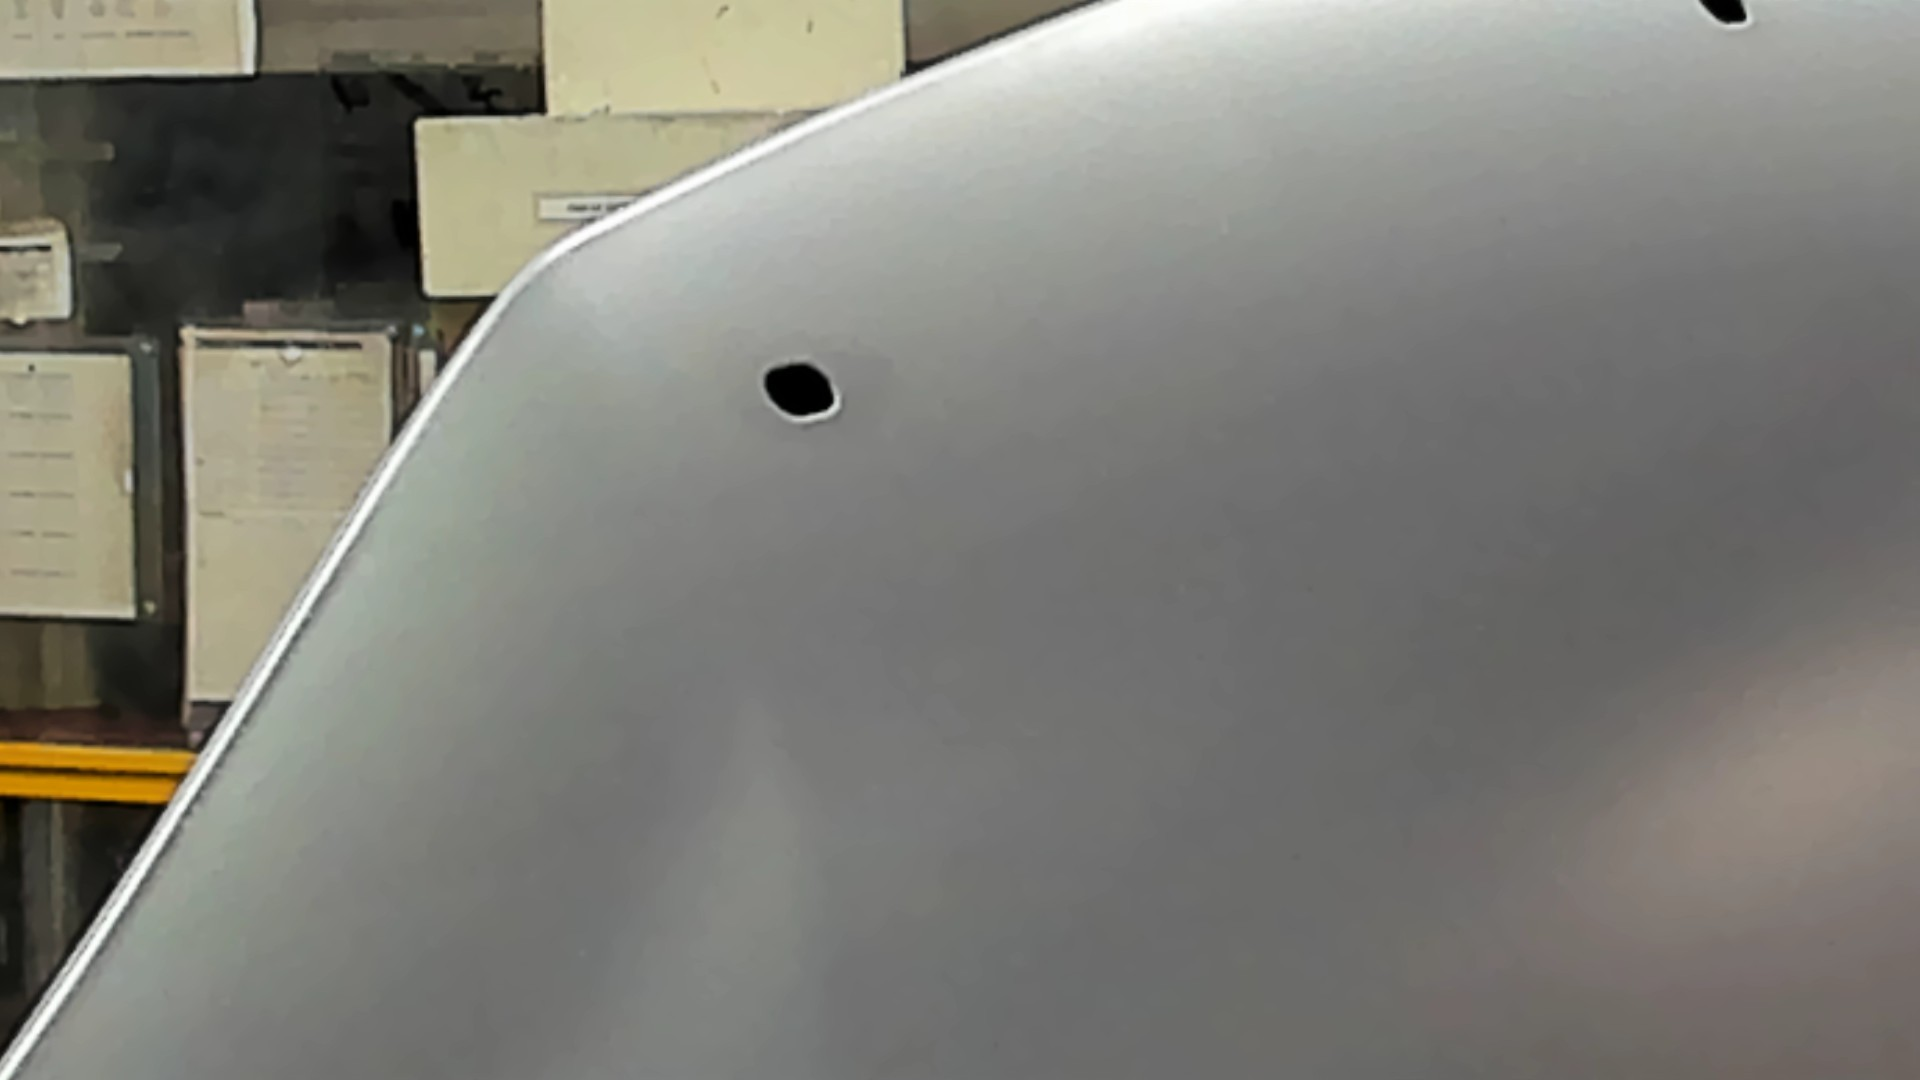amorfo: (760, 356, 845, 429), (1696, 1, 1760, 36)
capo: (940, 120, 1920, 1080)
